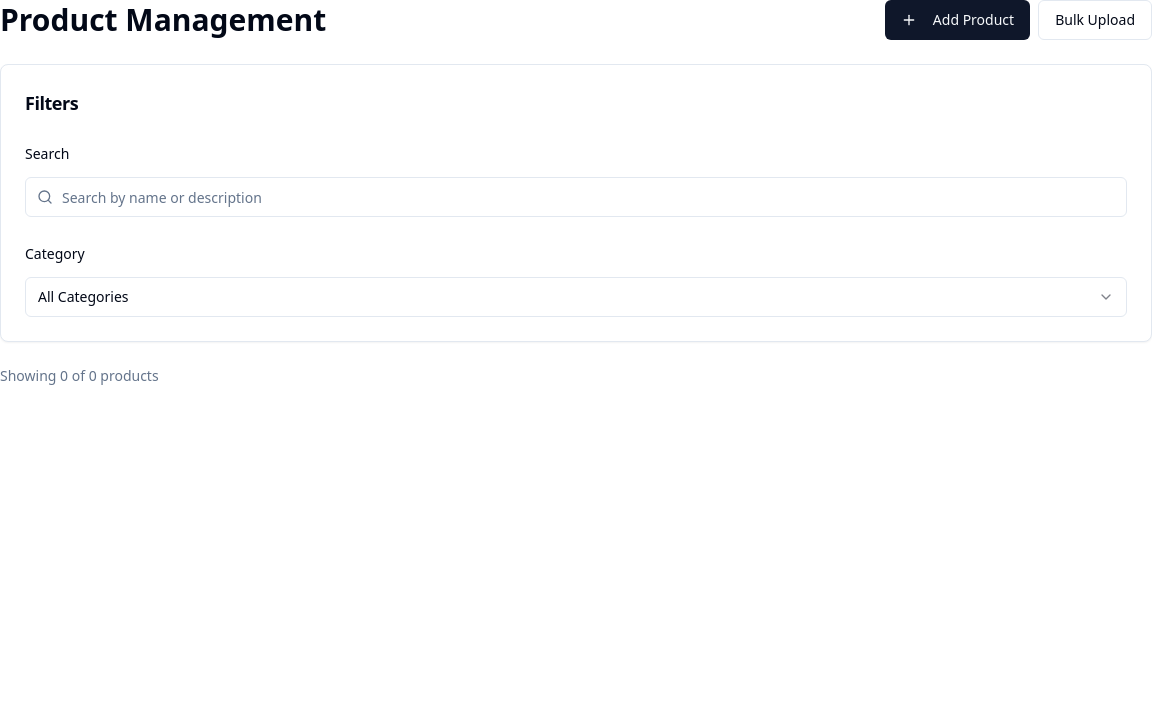
Scenario: Add Product dialog with the Cloudflare image dialog open › stays open when the user presses inside the image dialog
Expected: the heading "Product Management" is shown, [0,2,326,38]
Click the button "Add Product" at (957, 20), box [885,0,1030,40]
(page scrolled)
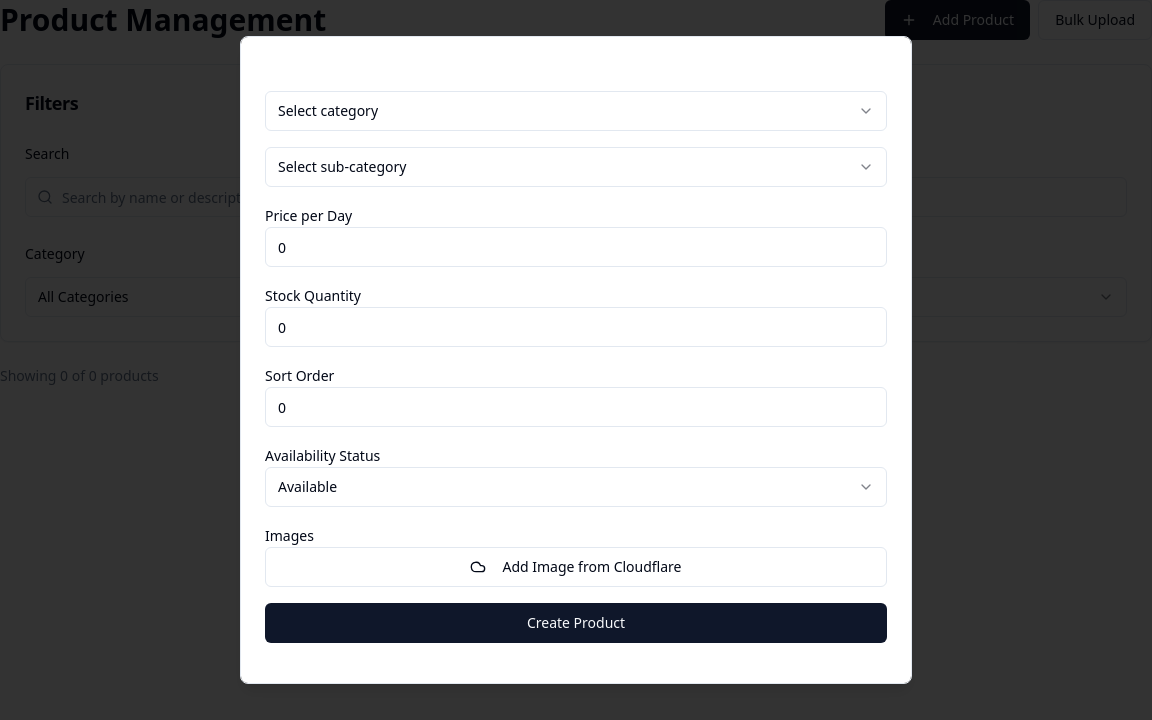
Click the button "Add Image from Cloudflare" at (576, 567), box [265,547,887,587]
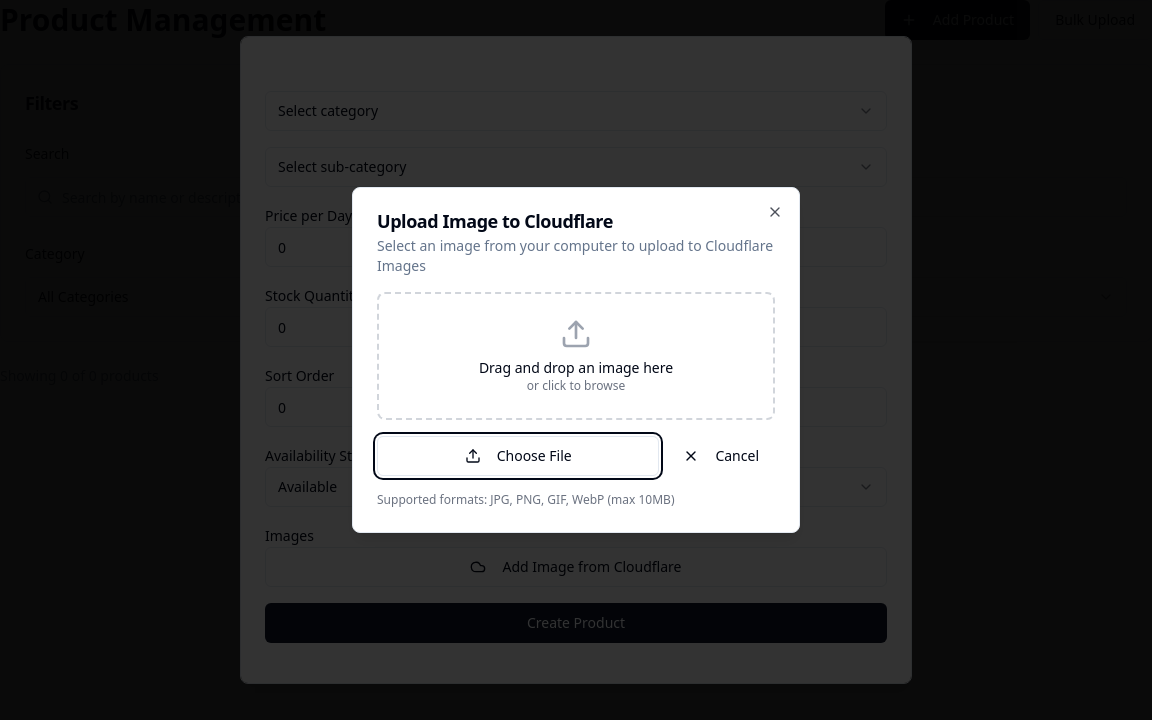
Press the mouse on the heading "Upload Image to Cloudflare" at (495, 221), box [377,209,613,233]
Click the heading "Upload Image to Cloudflare" at (495, 221), box [377,209,613,233]
(page scrolled)
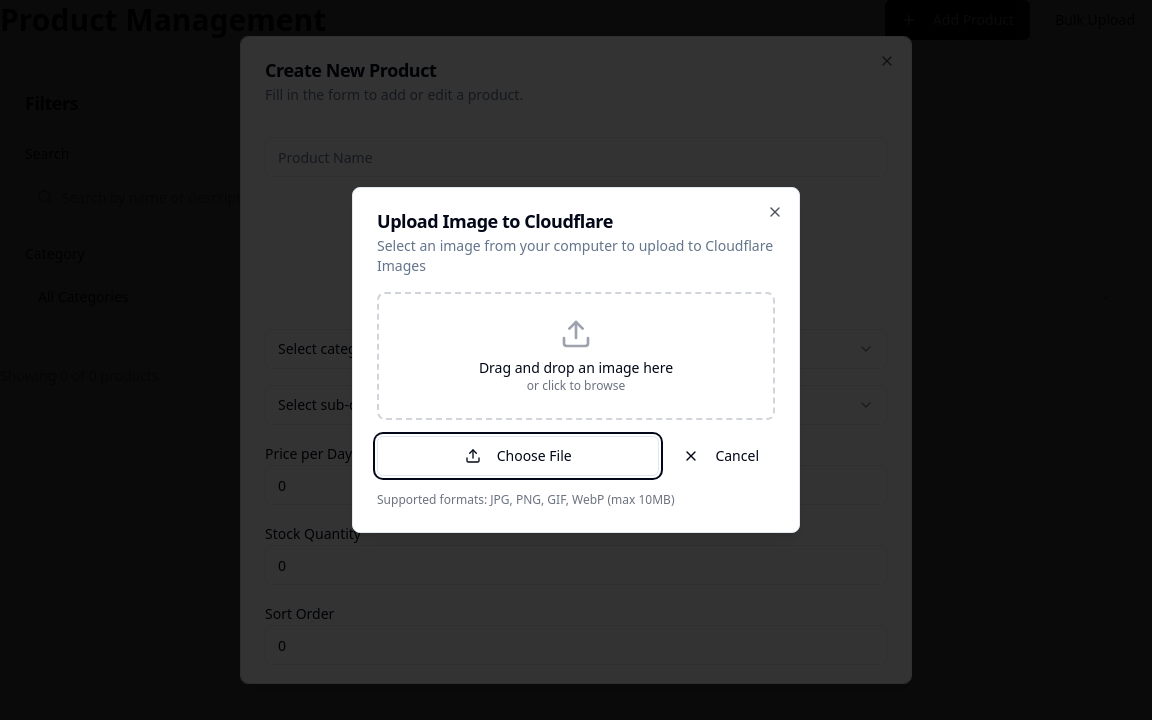
Expected: the heading "Upload Image to Cloudflare" is shown, [377,209,613,233]
Expected: the heading "Create New Product" is shown, [265,58,436,82]
